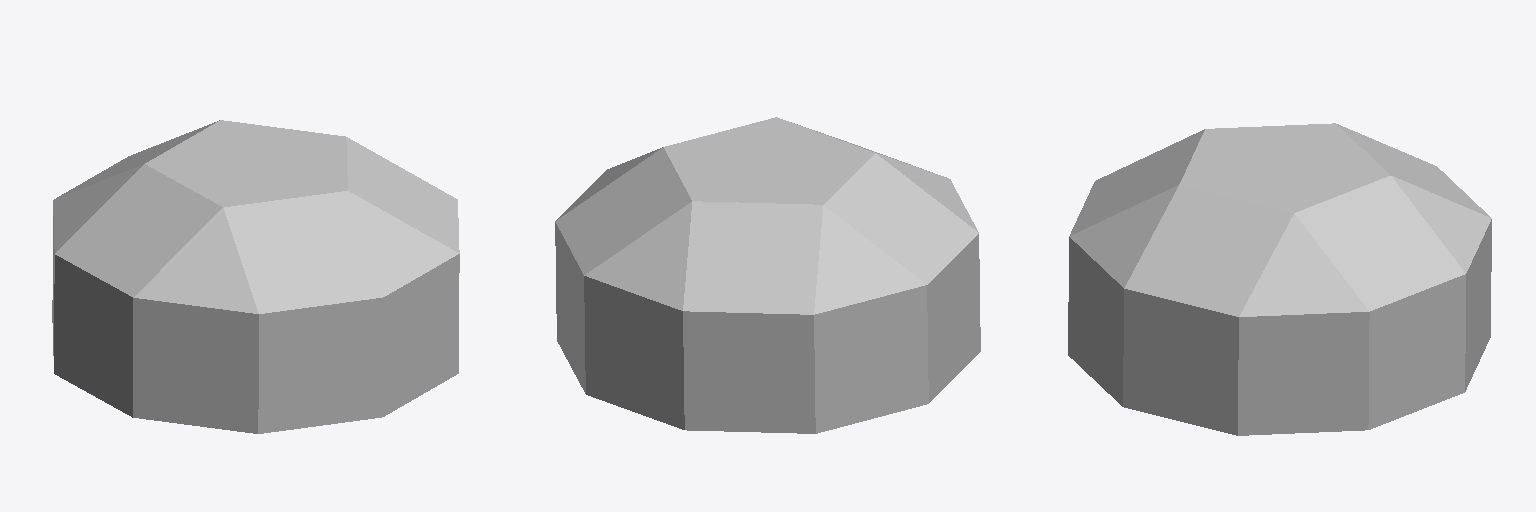
File: ElongatedPentagonalCupola.obj
3 views of the same model, side by side, from view 1: azimuth 30°, elevation 25°; view 2: azimuth 150°, elevation 25°; view 3: azimuth 270°, elevation 25° (orthographic).
Parts seen in each view (by area): view 1: ElongatedPentagonalCupola; view 2: ElongatedPentagonalCupola; view 3: ElongatedPentagonalCupola.
Boxes of the visible parts, box(x1,y1,x2,y2) form: ElongatedPentagonalCupola: box(52, 120, 459, 433); ElongatedPentagonalCupola: box(555, 117, 980, 433); ElongatedPentagonalCupola: box(1068, 123, 1491, 435).
Bounding box in the file's own units: 2.39 × 1.17 × 2.42.